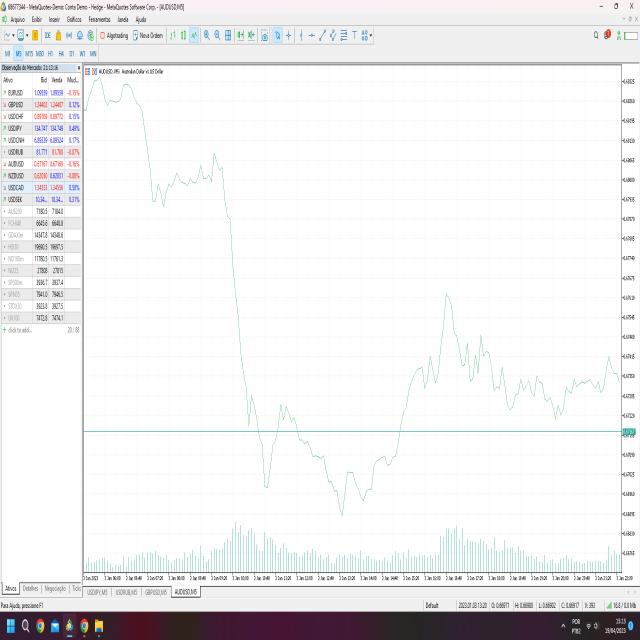bandeira_baixa: (121, 80, 222, 218)
fundo_duplo: (313, 386, 386, 541)
oco: (423, 223, 475, 406)
